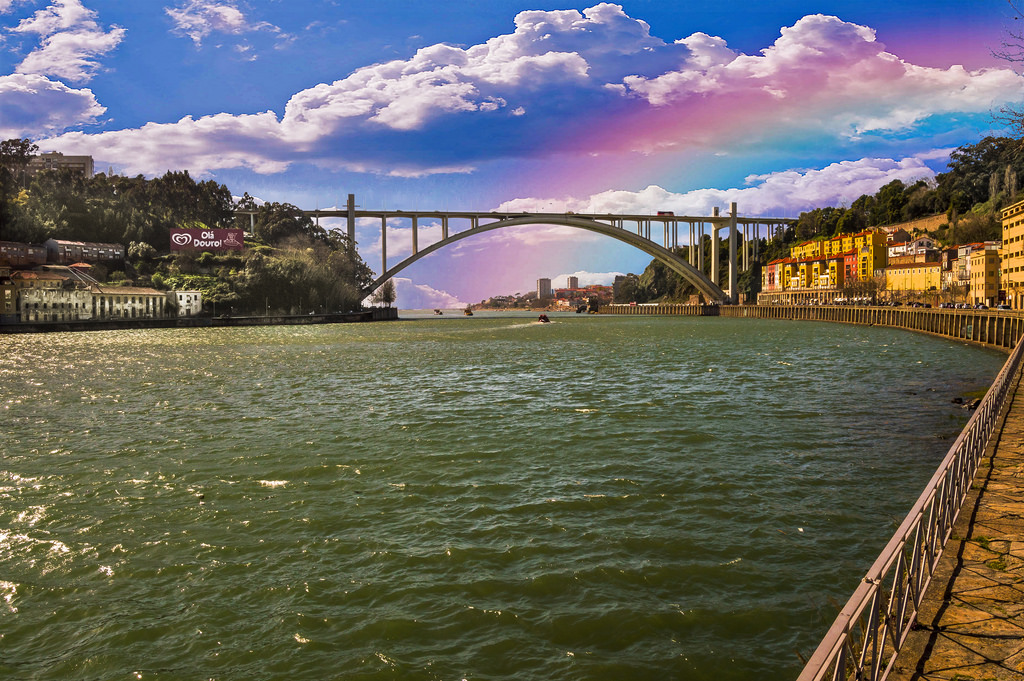arrabida: (281, 192, 795, 302)
